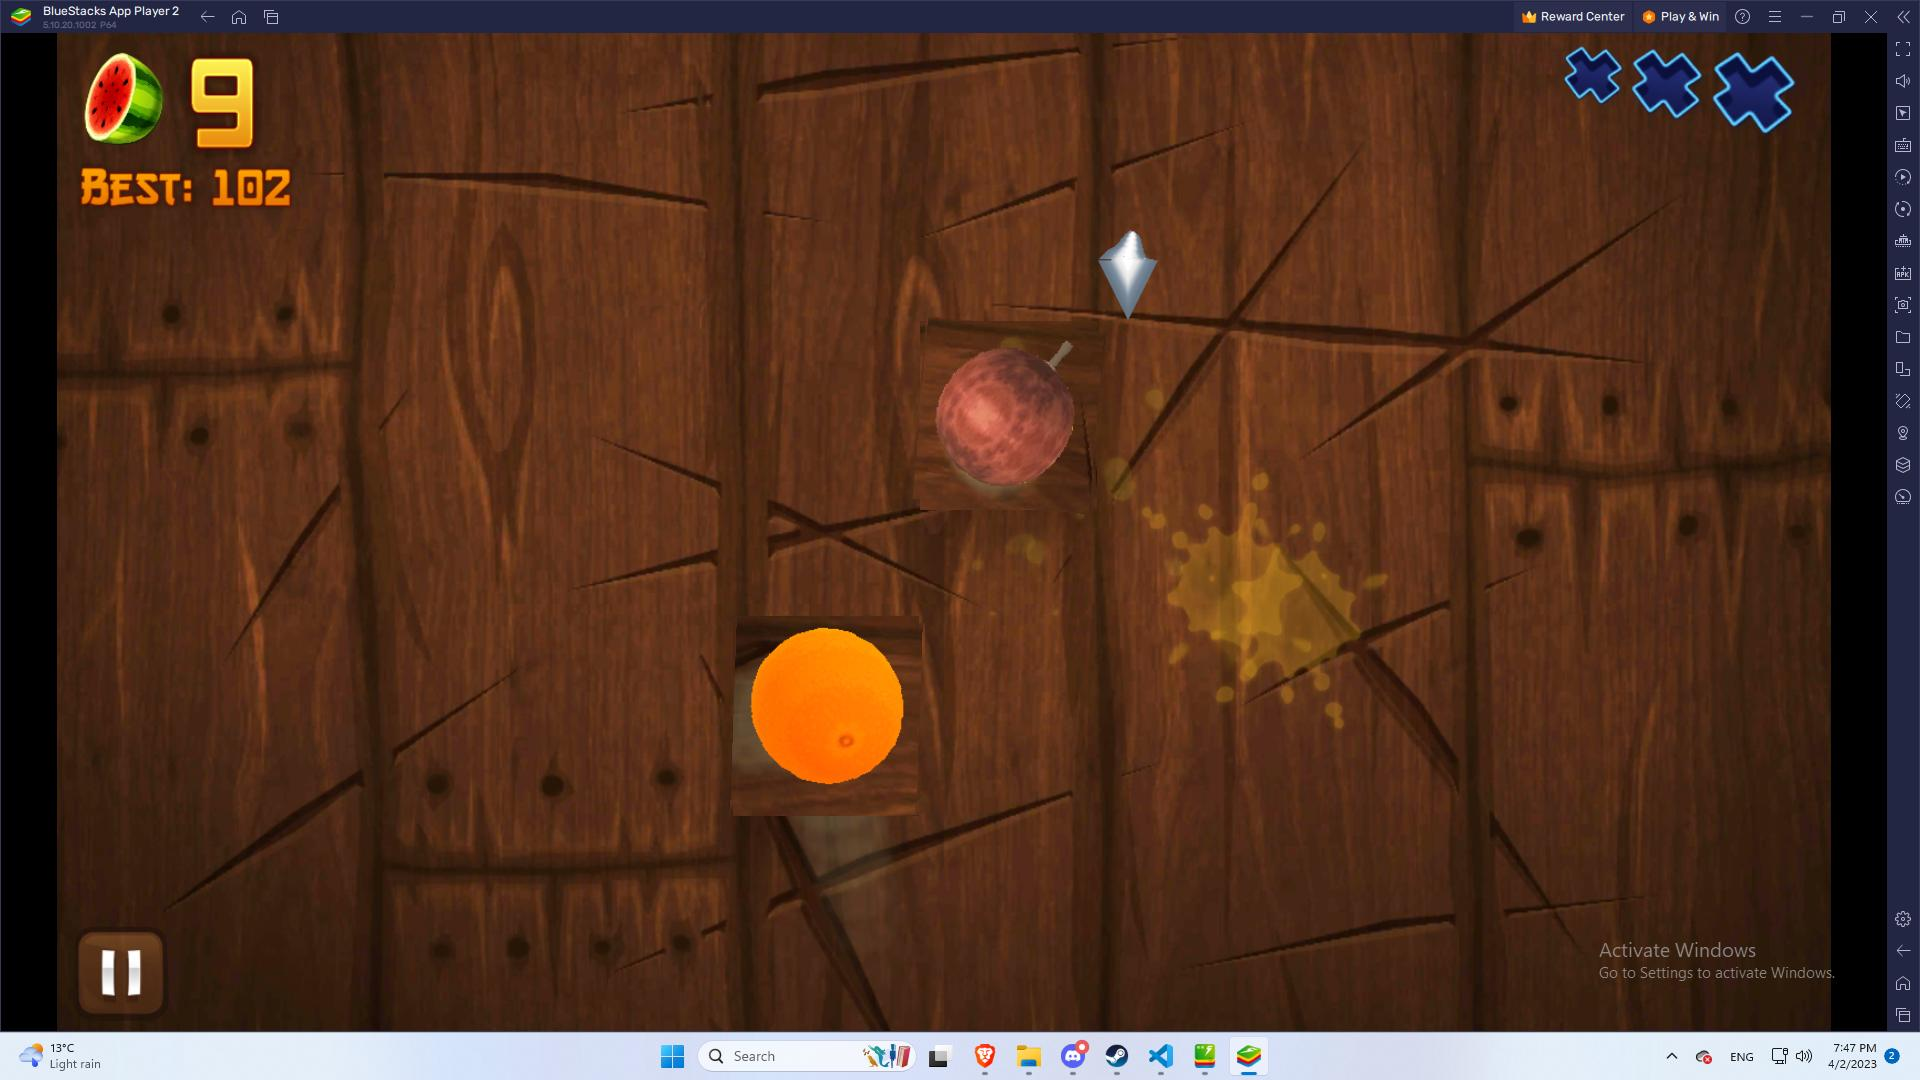fruit: (728, 618, 924, 815), (914, 320, 1105, 512)
